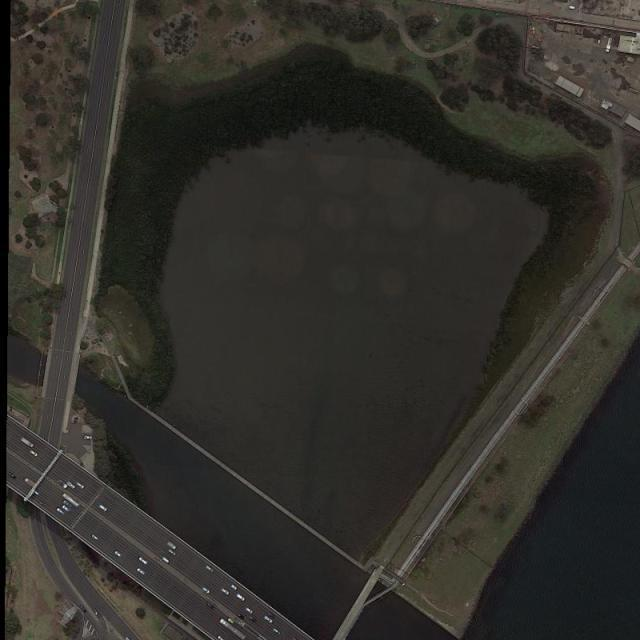vehicle: (219, 618, 247, 640), (62, 500, 75, 510), (263, 614, 274, 625), (22, 438, 34, 448), (56, 507, 68, 517), (66, 481, 77, 491), (138, 557, 150, 566), (78, 604, 88, 614), (135, 568, 146, 577), (74, 482, 86, 490), (61, 506, 73, 514), (58, 480, 68, 489), (167, 549, 178, 557), (166, 542, 177, 550), (236, 614, 246, 622), (248, 616, 258, 624), (205, 602, 215, 610), (201, 586, 211, 594), (236, 594, 246, 602), (98, 505, 108, 513), (90, 534, 99, 542), (113, 550, 122, 558), (161, 557, 170, 565), (244, 607, 254, 614), (220, 589, 230, 596), (28, 450, 38, 457), (228, 584, 238, 591), (205, 566, 214, 573), (272, 628, 281, 634), (83, 435, 93, 440), (8, 473, 15, 479), (216, 636, 226, 640), (124, 636, 130, 640)
